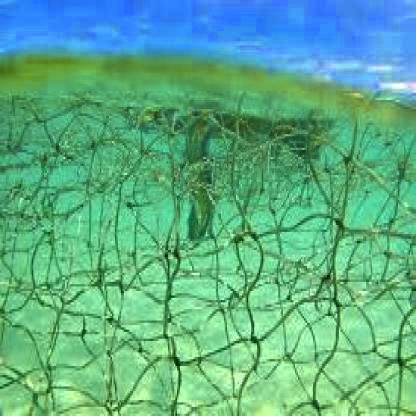net: (1, 107, 413, 416)
